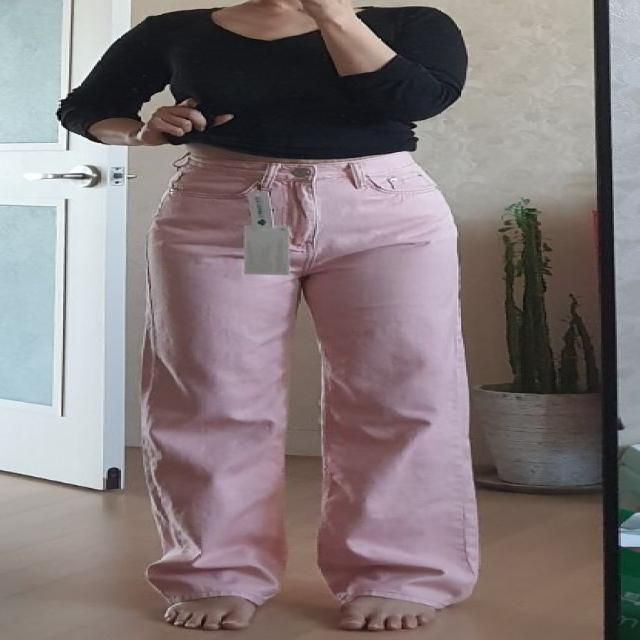cottonpants: (144, 146, 481, 608)
longsleeve: (50, 1, 471, 158)
